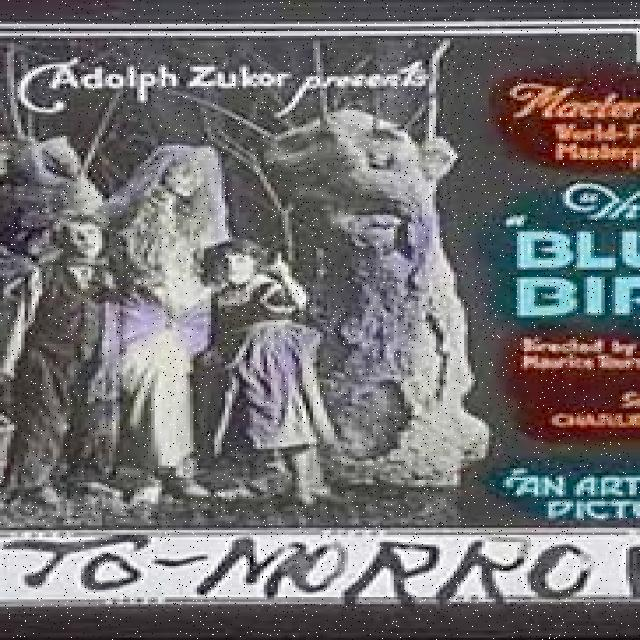movie-judul: (1, 530, 614, 606)
picture: (6, 111, 490, 526)
